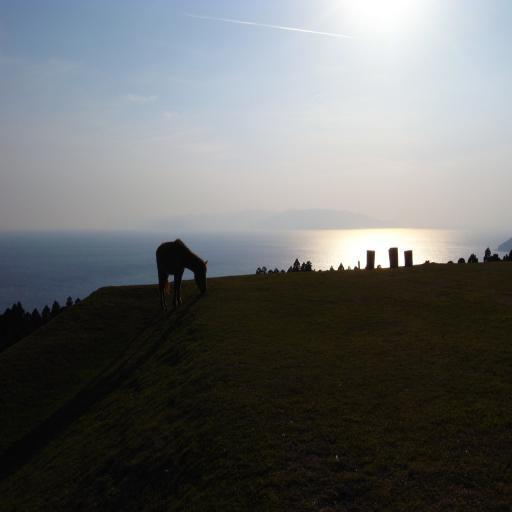horse: (152, 235, 208, 319)
